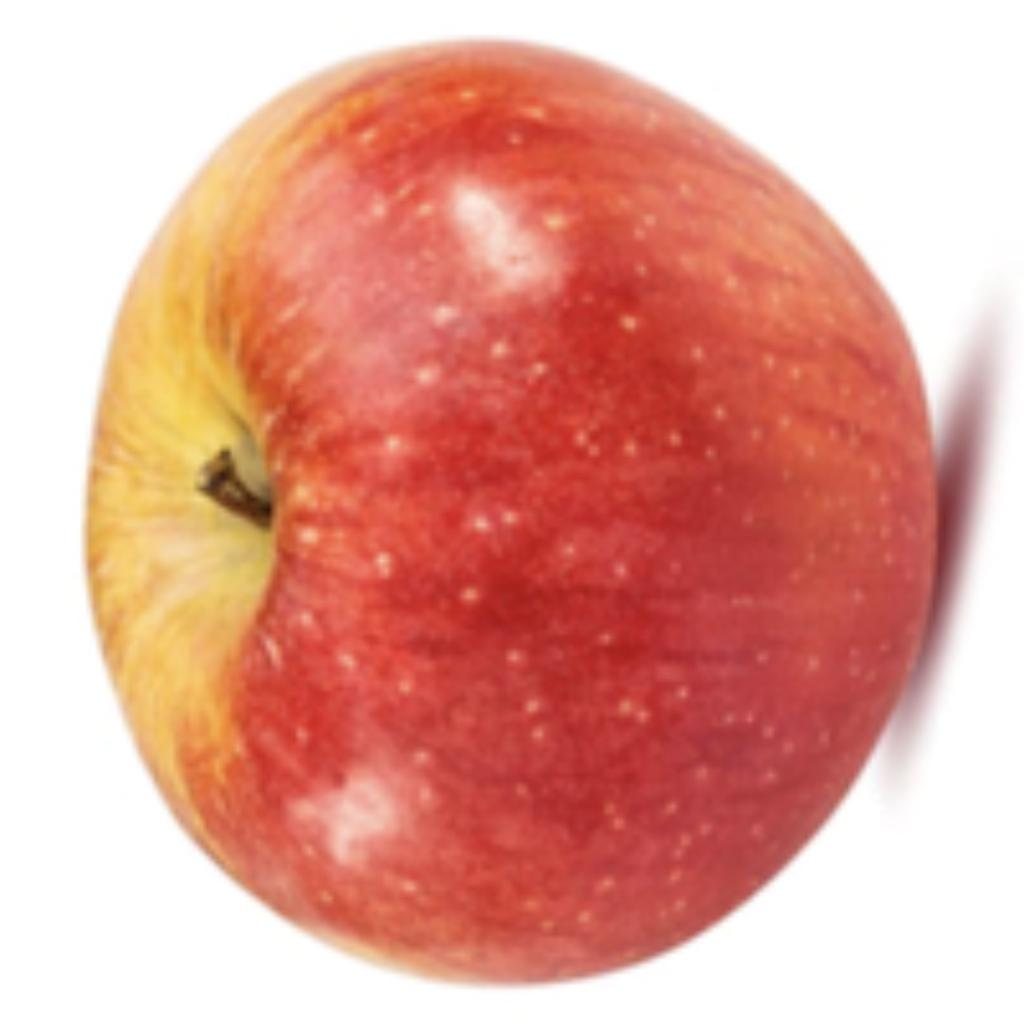apple: (77, 31, 1014, 993)
